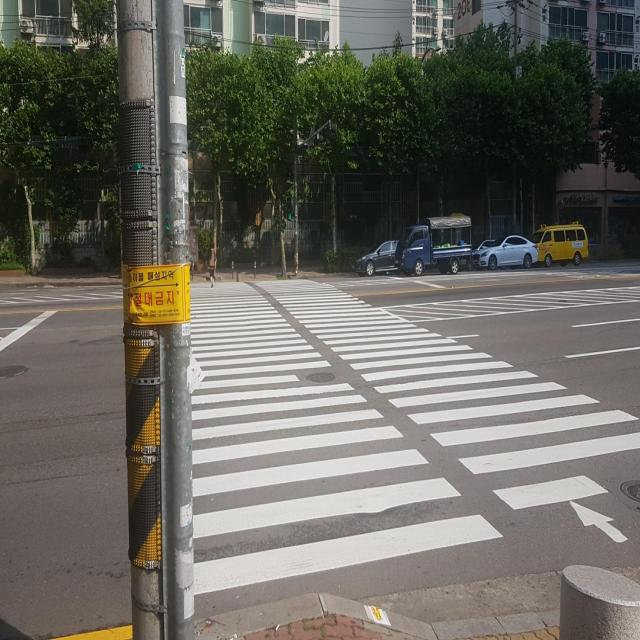횡단보도: (191, 282, 640, 596)
